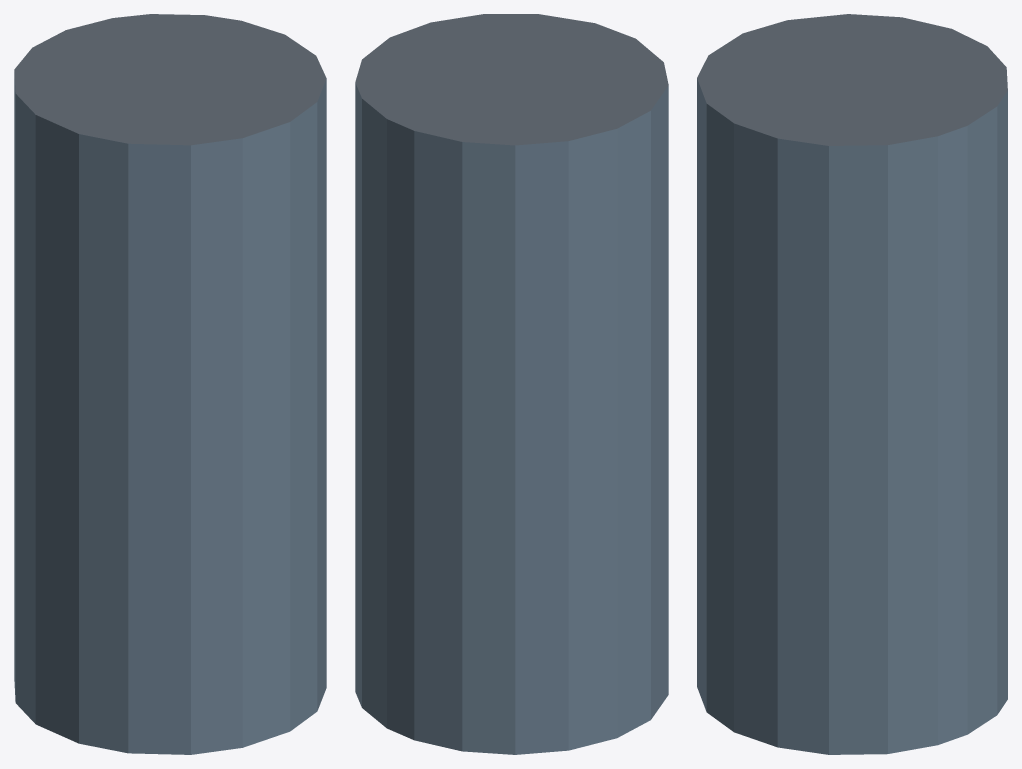
3 views of the same model, side by side, from view 1: azimuth 30°, elevation 25°; view 2: azimuth 150°, elevation 25°; view 3: azimuth 270°, elevation 25° (orthographic).
Parts seen in each view (by area): view 1: HP-w160895229; view 2: HP-w160895229; view 3: HP-w160895229.
Boxes of the visible parts, x1,y1,x2,y2 form: HP-w160895229: (14, 14, 326, 754); HP-w160895229: (355, 14, 668, 754); HP-w160895229: (697, 14, 1007, 754).
Bounding box in the file's own units: 38.88 × 83.6 × 38.68.
